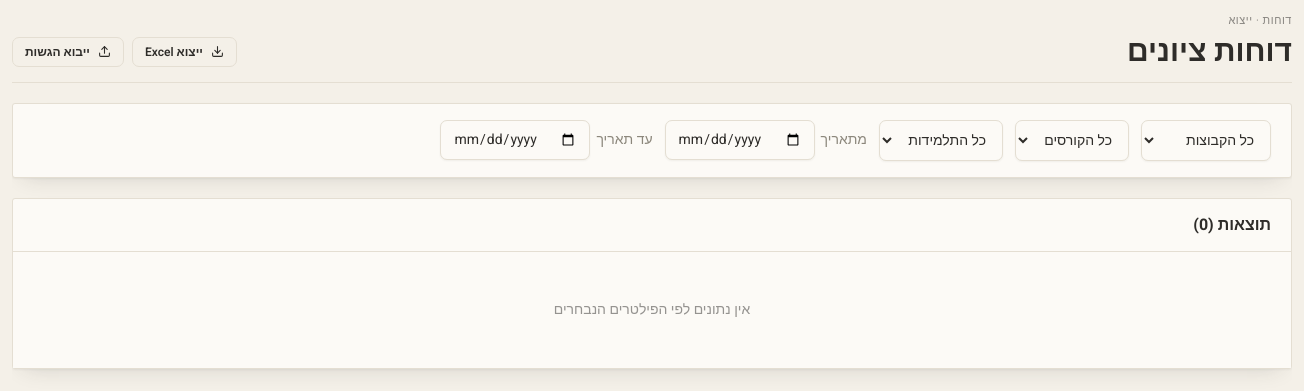
Test: ReportsPage dates › shows the server's reason when the export is refused
Click the button "ייצוא Excel". click: [184, 52]
box: [132, 37, 237, 67]
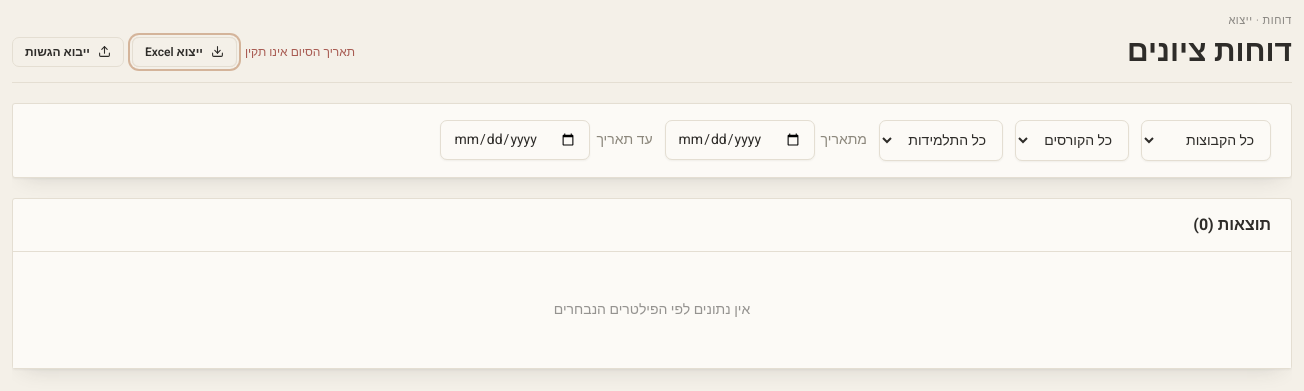
Result: the text "תאריך הסיום אינו תקין" is shown at [245, 44, 355, 60]
